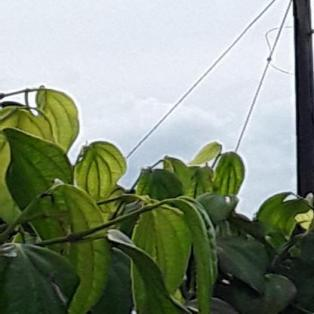Poste: (273, 0, 313, 202)
